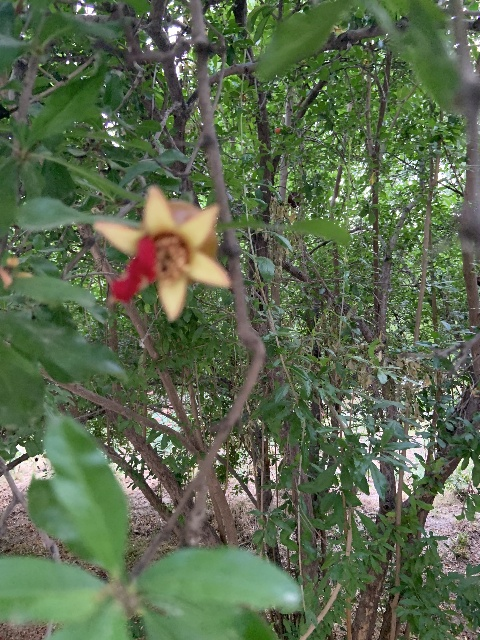bud: (274, 128, 280, 133)
early-fruit: (93, 185, 230, 323)
